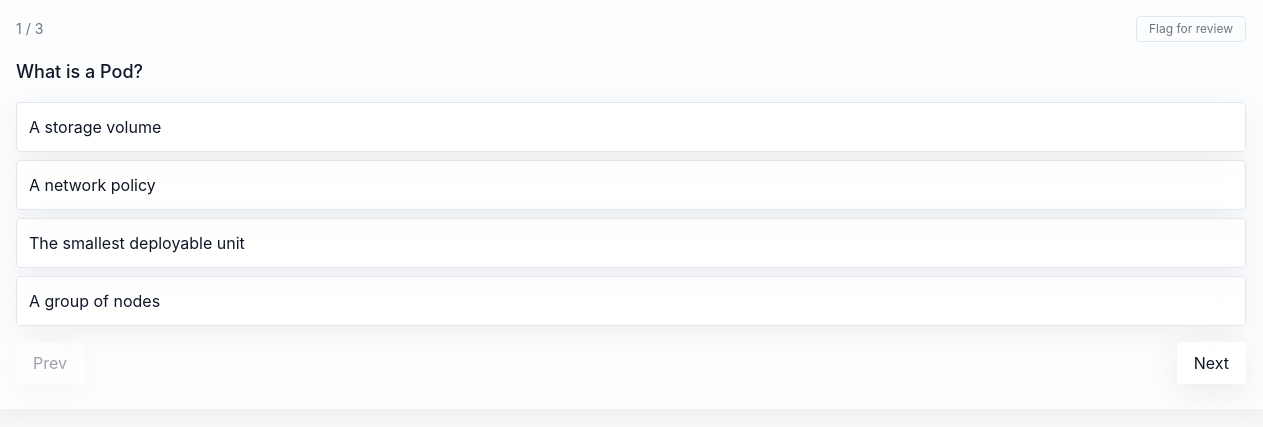
Test: QuizBlock Phase 3 scaffolds › quiz_displays_x_of_n_progress — shows '1 / 3' on first card, '2 / 3' after Next
Expected: the text with test id "quiz-progress" reads "1 / 3", [16, 19, 43, 39]
Step 1. Click the button "Next" → x=1211, y=363, box [1177, 342, 1246, 384]
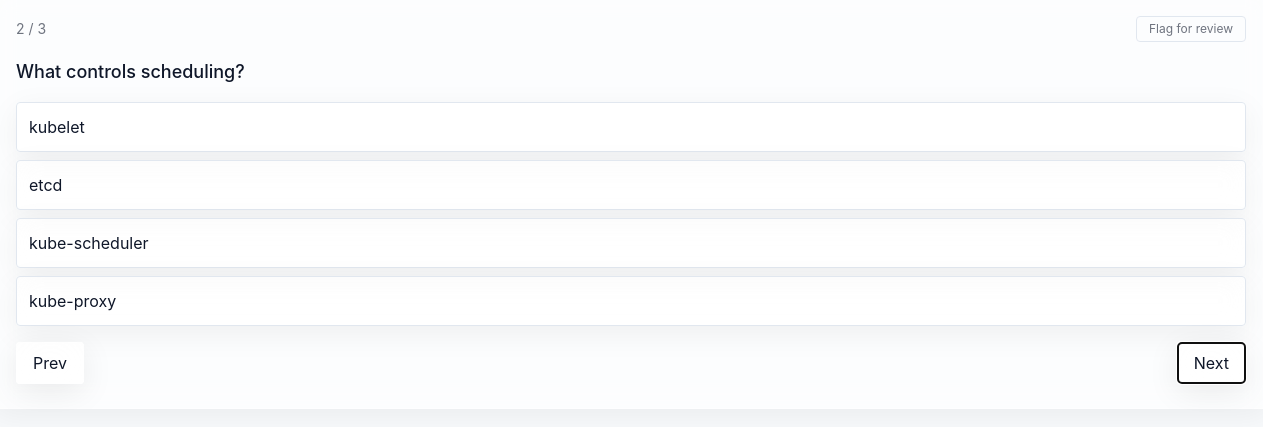
Now the text with test id "quiz-progress" reads "2 / 3", box [16, 19, 46, 39]
